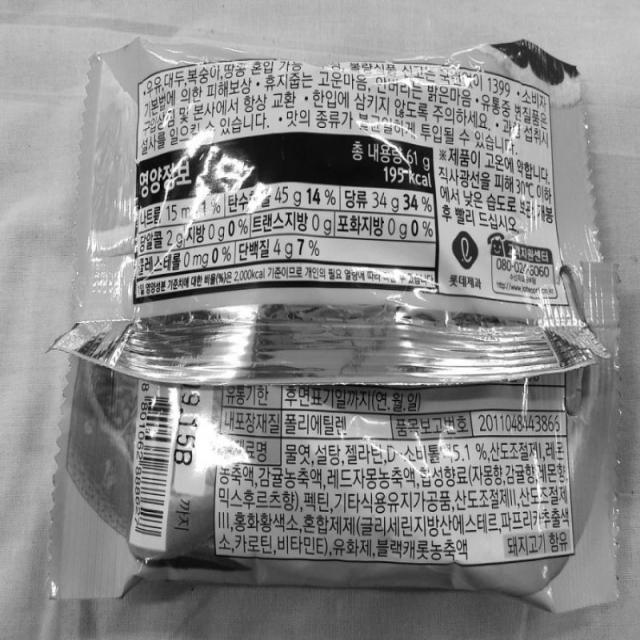Nutrition Label: (124, 136, 439, 300)
